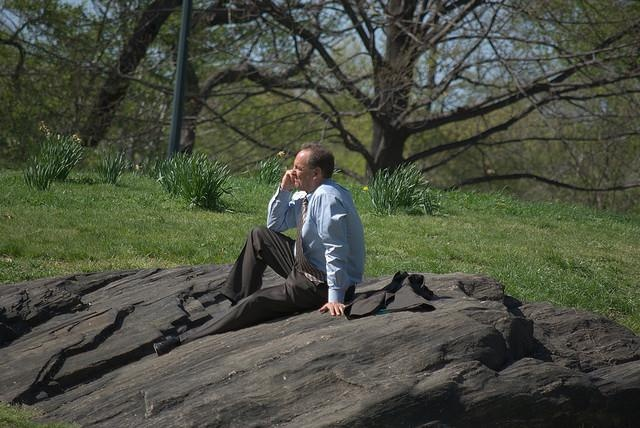person: (149, 139, 366, 356)
